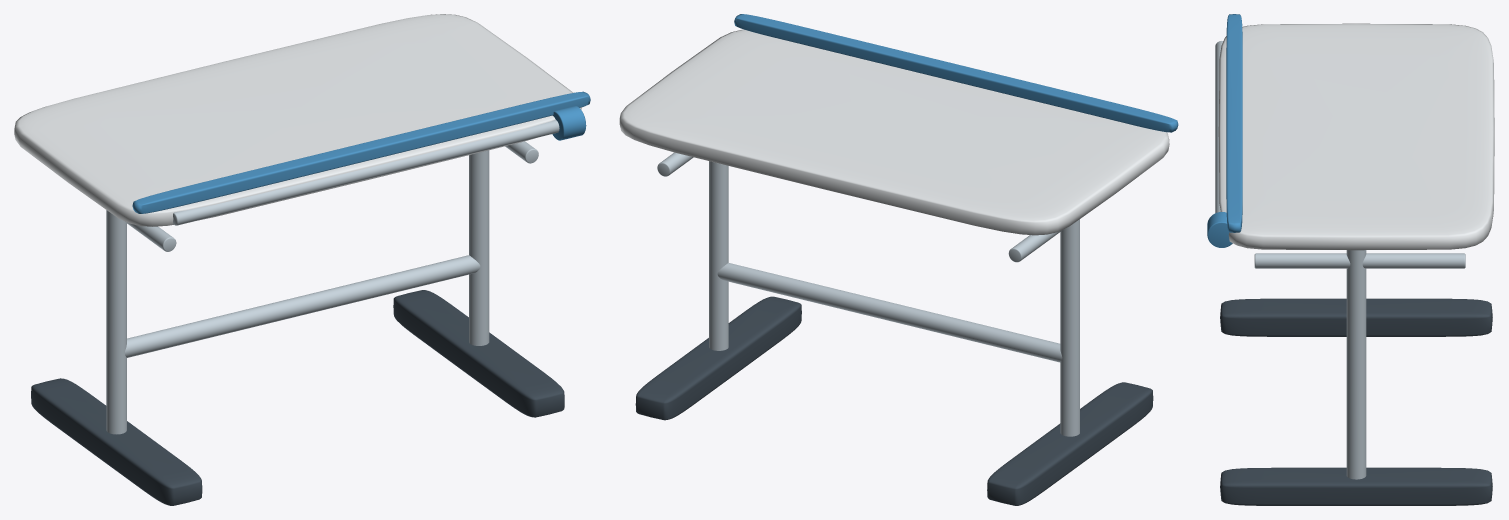
The model's file is drafting_table.glb.
The picture shows the model from 3 angles, left to right: view 1: azimuth 30°, elevation 25°; view 2: azimuth 150°, elevation 25°; view 3: azimuth 270°, elevation 25°; orthographic projection. The views are drawn at different scales.
Visible parts, largest first — view 1: Drawing_Surface, Pencil_Ledge, Base_0.55, Base_-0.55, Frame_Crossbar, Tilt_Axle, Leg_-0.55, Leg_0.55, Angle_Lock_Knob, Crossbar_-0.55; view 2: Drawing_Surface, Pencil_Ledge, Base_0.55, Base_-0.55, Frame_Crossbar, Leg_-0.55, Leg_0.55, Crossbar_-0.55; view 3: Drawing_Surface, Base_0.55, Base_-0.55, Leg_0.55, Pencil_Ledge, Crossbar_0.55, Tilt_Axle, Angle_Lock_Knob.
Part boxes in pixels (<box>): Drawing_Surface: <box>14,14,581,226</box>; Pencil_Ledge: <box>132,91,590,213</box>; Base_0.55: <box>393,290,564,417</box>; Base_-0.55: <box>31,378,202,505</box>; Frame_Crossbar: <box>125,255,480,357</box>; Tilt_Axle: <box>173,119,559,225</box>; Leg_-0.55: <box>106,210,126,434</box>; Leg_0.55: <box>469,150,489,345</box>; Angle_Lock_Knob: <box>552,106,586,140</box>; Crossbar_-0.55: <box>124,221,176,251</box>; Drawing_Surface: <box>619,29,1169,235</box>; Pencil_Ledge: <box>734,14,1178,132</box>; Base_0.55: <box>635,296,801,420</box>; Base_-0.55: <box>987,382,1153,505</box>; Frame_Crossbar: <box>717,263,1062,362</box>; Leg_-0.55: <box>1060,219,1079,436</box>; Leg_0.55: <box>709,161,728,350</box>; Crossbar_-0.55: <box>1008,229,1063,262</box>; Drawing_Surface: <box>1218,23,1494,250</box>; Base_0.55: <box>1220,467,1492,505</box>; Base_-0.55: <box>1220,298,1492,336</box>; Leg_0.55: <box>1346,250,1366,479</box>; Pencil_Ledge: <box>1226,14,1242,232</box>; Crossbar_0.55: <box>1254,253,1465,268</box>; Tilt_Axle: <box>1215,41,1223,212</box>; Angle_Lock_Knob: <box>1207,212,1232,247</box>.
Size of the model in its own units: 1.4 by 0.8985 by 0.79.
